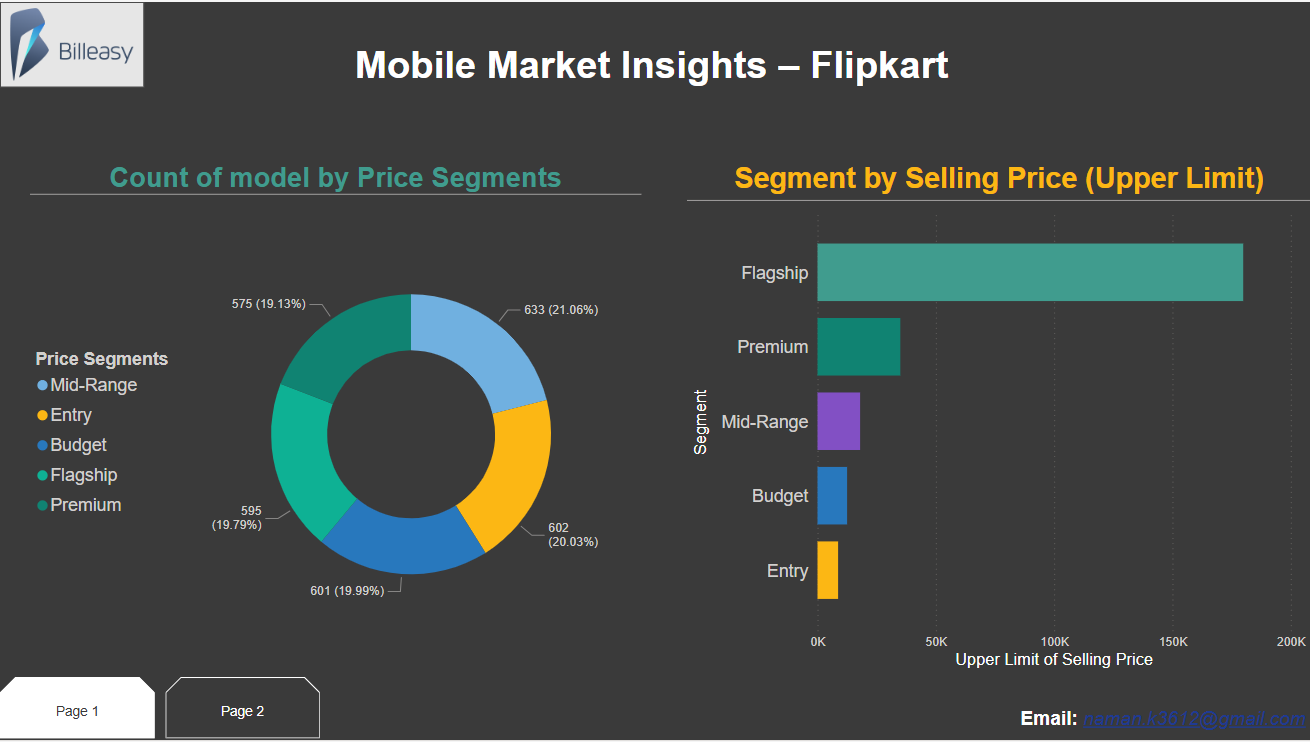

This screenshot's page, from the dashboard's own definition file:
{"tool":"powerbi","page":{"name":"Page 1","canvas":[1280,720],"ordinal":0},"visuals":[{"type":"donutChart","fields":{"Y":["CountNonNull(cleaned_mobile_data.model)"],"Category":["cleaned_mobile_data.price_segment"]},"box":[28.8,156,596.6,502.7],"z":0},{"type":"image","box":[0,0,140.8,83.3],"z":1000},{"type":"textbox","box":[975.1,682.9,304.4,36.3],"z":2000},{"type":"textbox","box":[313.4,33.3,655.7,71.2],"z":3000},{"type":"clusteredBarChart","title":"Segment by Selling Price (Upper Limit)","fields":{"Category":["price_segment_limits.Segment"],"Y":["Sum(price_segment_limits.Upper Limit)"]},"box":[670.8,156,608.7,498.2],"z":4000},{"type":"pageNavigator","box":[0,658.7,313.4,60.6],"z":5000}]}

Visuals, with their boxes in screenshot pixels (x1, y1, x2, y2), scaled from the page's 1280x720 canvas onto the 1310x742 screenshot:
donutChart - CountNonNull(cleaned_mobile_data.model) x cleaned_mobile_data.price_segment: bbox=[29, 161, 640, 679]
image: bbox=[0, 0, 144, 86]
textbox: bbox=[998, 704, 1309, 741]
textbox: bbox=[321, 34, 992, 108]
"Segment by Selling Price (Upper Limit)" clusteredBarChart: bbox=[687, 161, 1309, 674]
pageNavigator: bbox=[0, 679, 321, 741]
